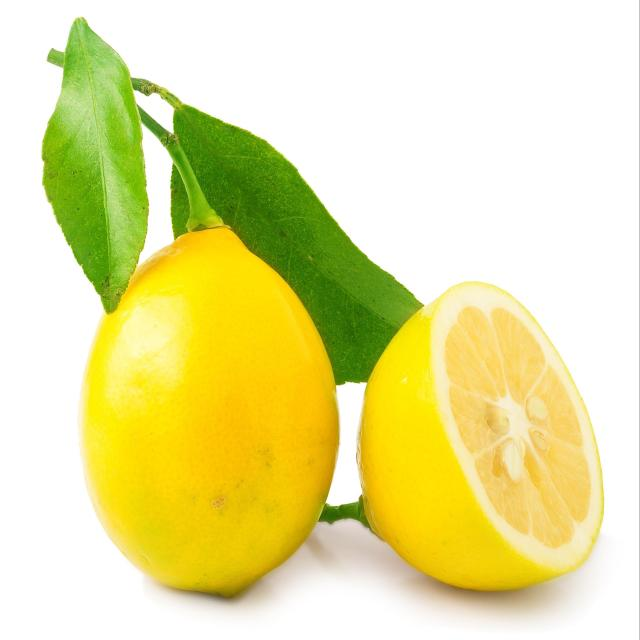lemon: (67, 215, 350, 606), (350, 274, 610, 602)
